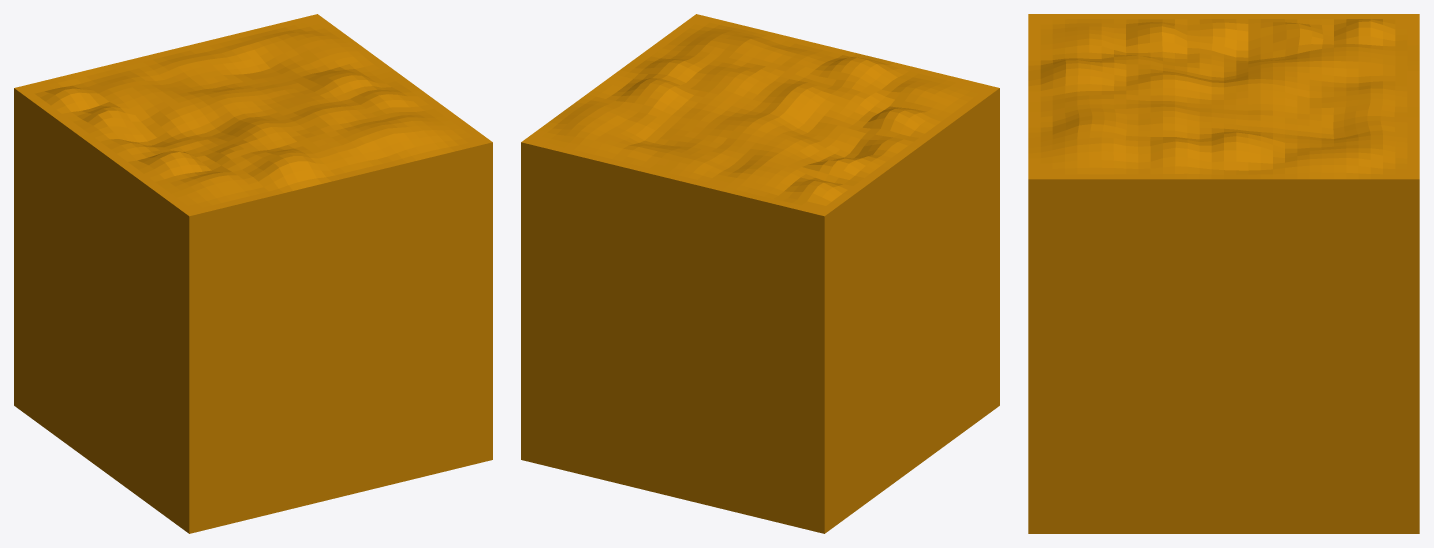
File: Dirtblock.fbx
3 renders of one model, left to right at view 1: azimuth 30°, elevation 25°; view 2: azimuth 150°, elevation 25°; view 3: azimuth 270°, elevation 25°, orthographic. The views are drawn at different scales.
Parts seen in each view (by area): view 1: Cube; view 2: Cube; view 3: Cube.
Part boxes in pixels (x1,y1,x2,y2): Cube: (14, 14, 492, 533); Cube: (521, 14, 999, 533); Cube: (1028, 14, 1419, 533).
Bounding box in the file's own units: 200 × 208 × 200.
